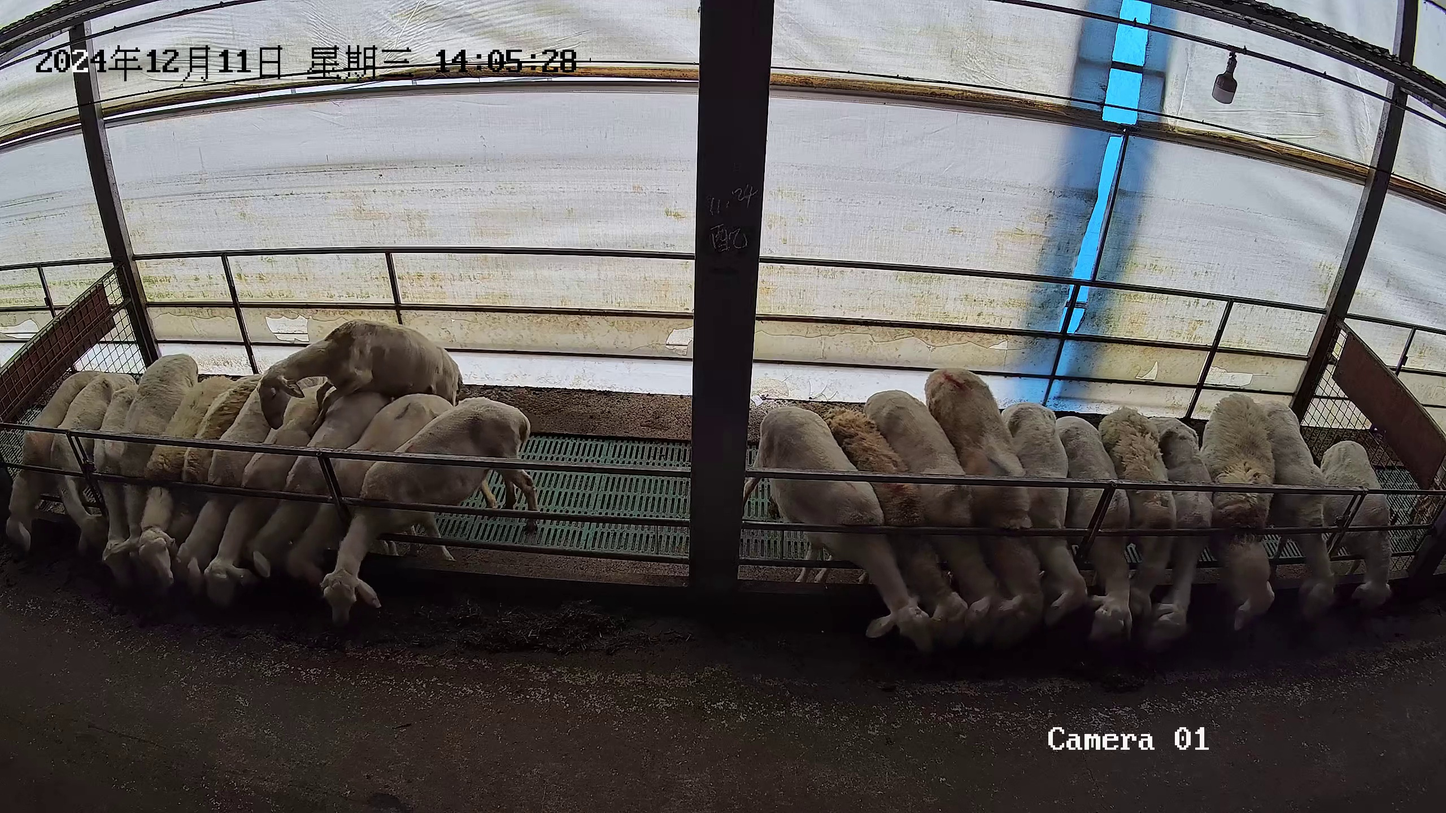Nmounting: (256, 318, 464, 593)
